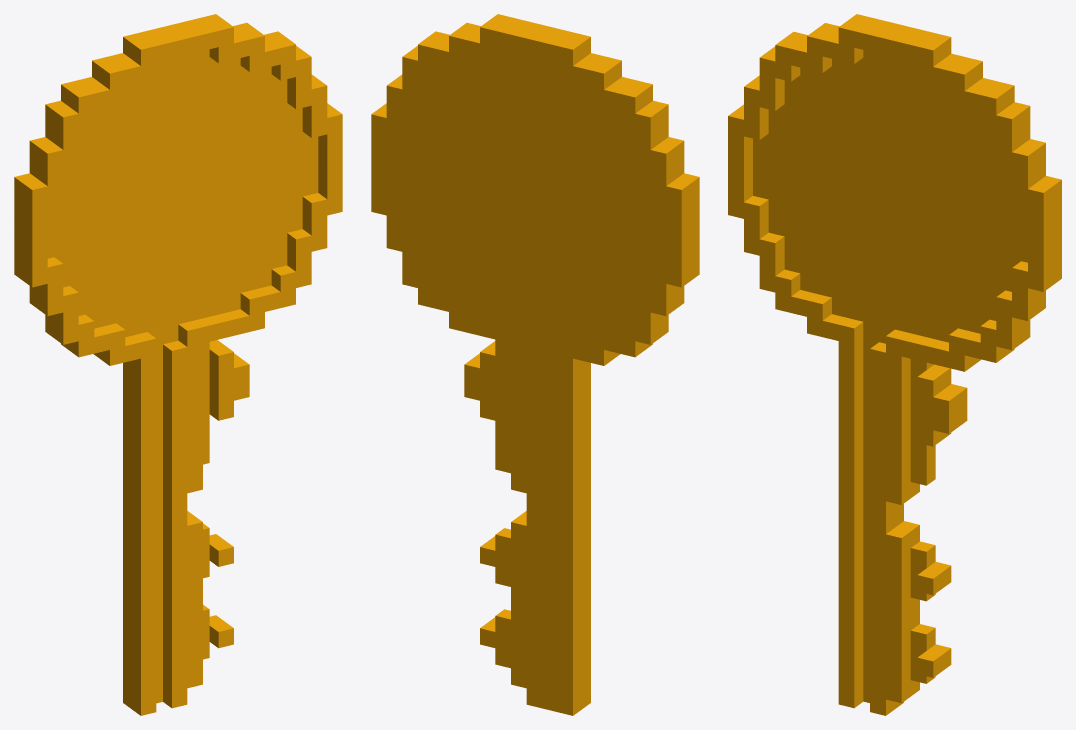
The model's file is Key.obj.
The picture shows the model from 3 angles, left to right: view 1: azimuth 30°, elevation 25°; view 2: azimuth 150°, elevation 25°; view 3: azimuth 330°, elevation 25°; orthographic projection.
Bounding box in the file's own units: 2 × 4.1 × 0.2.
1 material, 1 textured.
